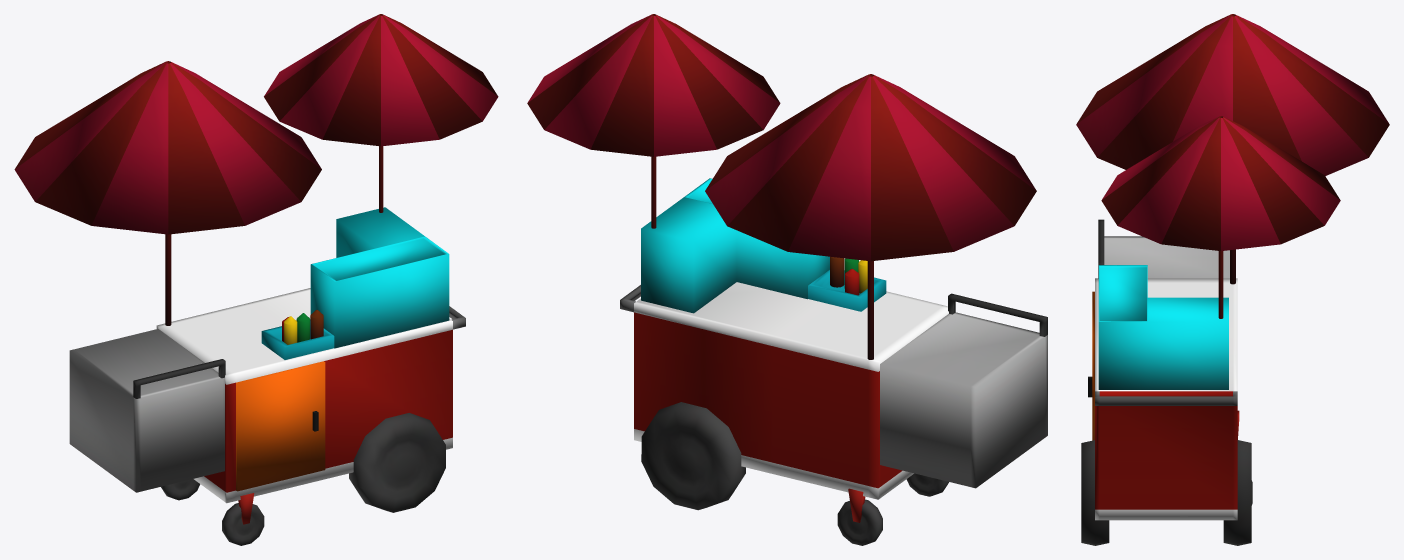
Rendered from FoodCart_Hotdog.fbx.
The picture shows the model from 3 angles, left to right: view 1: azimuth 30°, elevation 25°; view 2: azimuth 150°, elevation 25°; view 3: azimuth 270°, elevation 25°; orthographic projection. The views are drawn at different scales.
Visible parts, largest first — view 1: FoodCart_Hotdog; view 2: FoodCart_Hotdog; view 3: FoodCart_Hotdog.
Boxes of the visible parts, <box> form: FoodCart_Hotdog: <box>14,14,498,545</box>; FoodCart_Hotdog: <box>527,14,1047,545</box>; FoodCart_Hotdog: <box>1076,14,1389,545</box>.
Bounding box in the file's own units: 150 × 142 × 90.37.
1 material, 1 textured.
